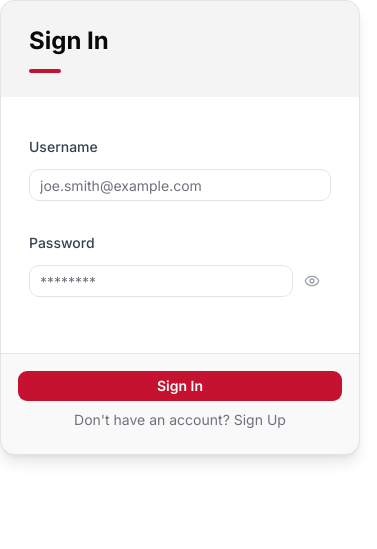
Test case: SignInCard › shows error message on failed login
Type "test@test.com" into the field with placeholder "joe.smith@example.com".
click(180, 185); type("test@test.com")  # box [29,169,331,201]
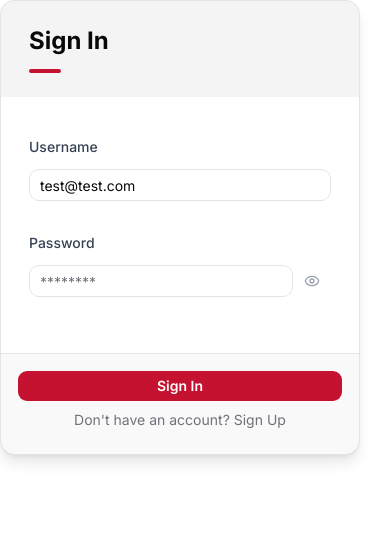
Type "wrongpass" into the password field with placeholder "********".
click(161, 281); type("wrongpass")  # box [29,265,293,297]
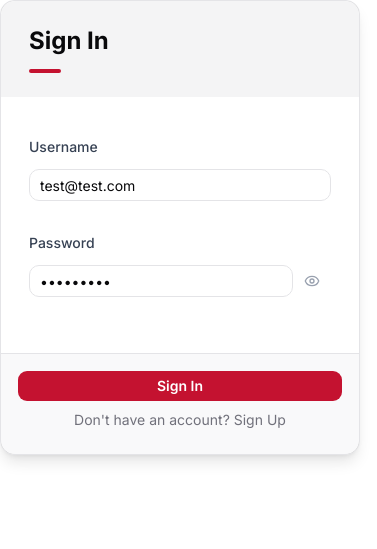
Click the button "Sign In".
click(180, 386)  # box [17,370,343,402]
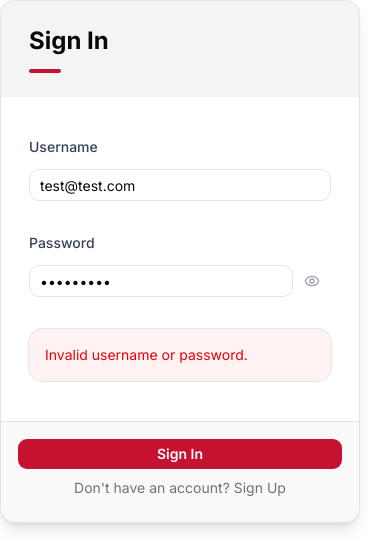
Now the text "Invalid username or password." is shown, box [45,346,248,363]
